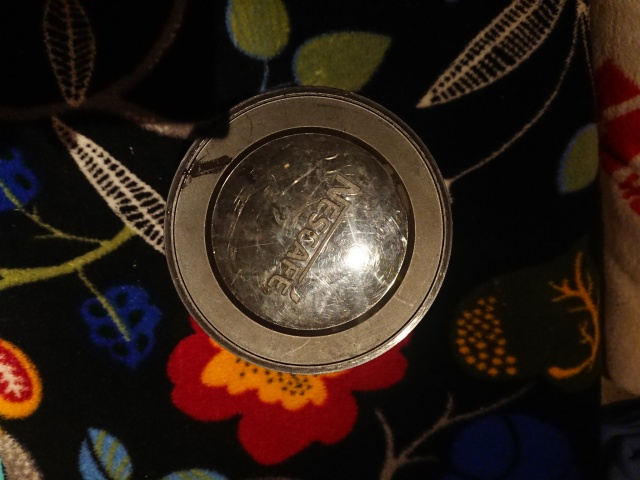Nescafe Classic 225g: (158, 81, 458, 379)
